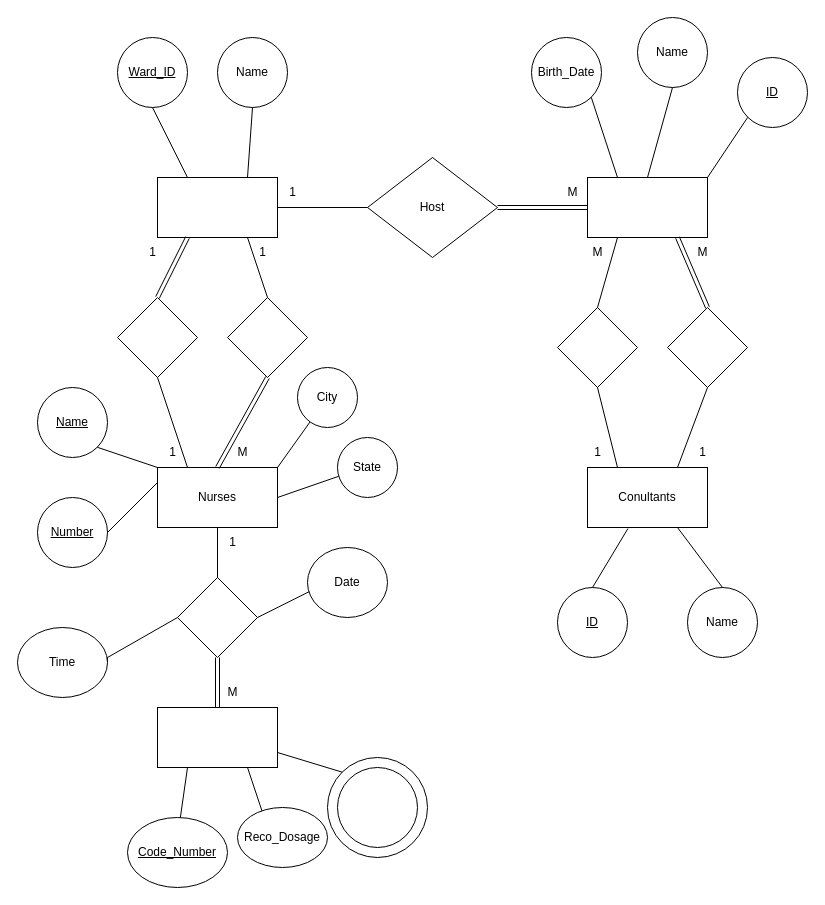
The diagram is 825 pixels wide and 905 high, and some of its shapes have lost their labels. The centre of each missing label's shape, as x and y in pixels:
Brand_Name: point 377,807
Drugs: point 217,737
examined: point 707,347
Give: point 217,617
lead: point 597,347
Patients: point 647,207
Serve: point 267,337
supervision: point 157,337
Wards: point 217,207
